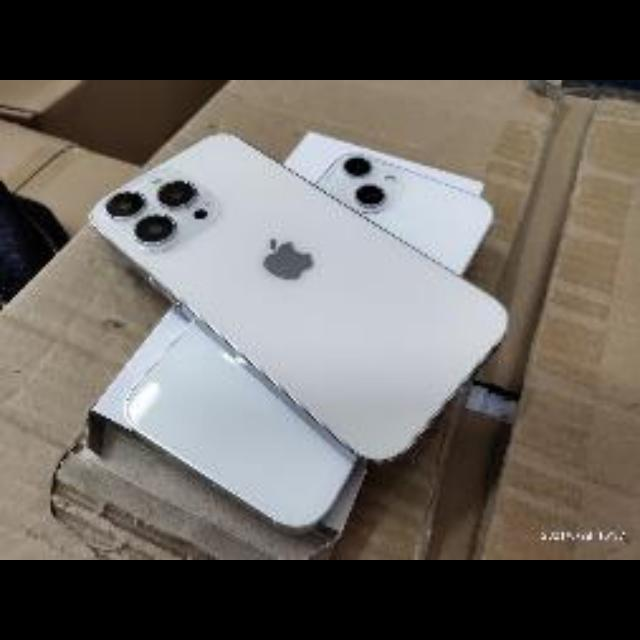Phone: (92, 132, 510, 464)
